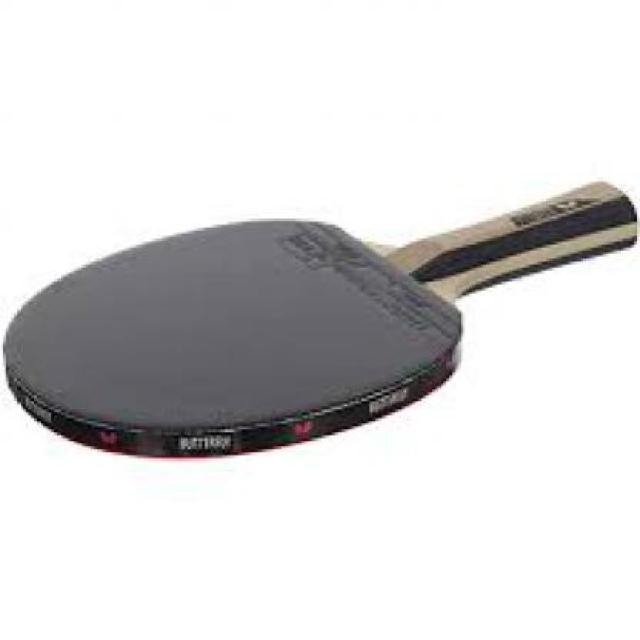table_tennis_racket: (0, 212, 465, 466)
